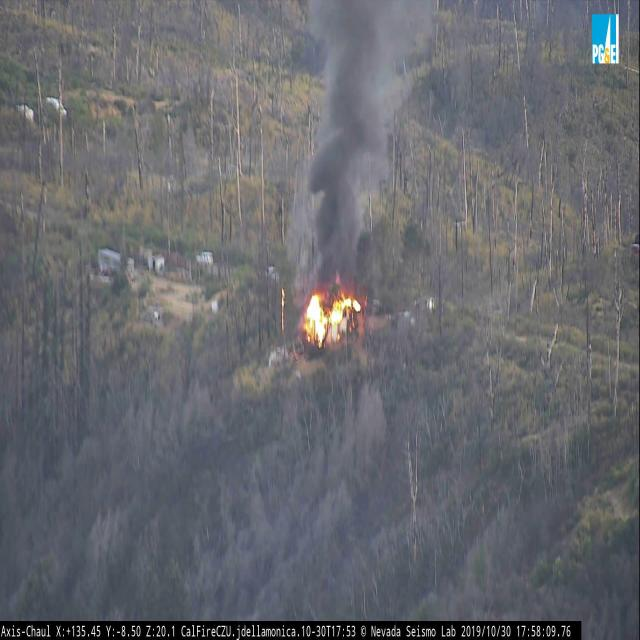smoke: (296, 0, 440, 293)
